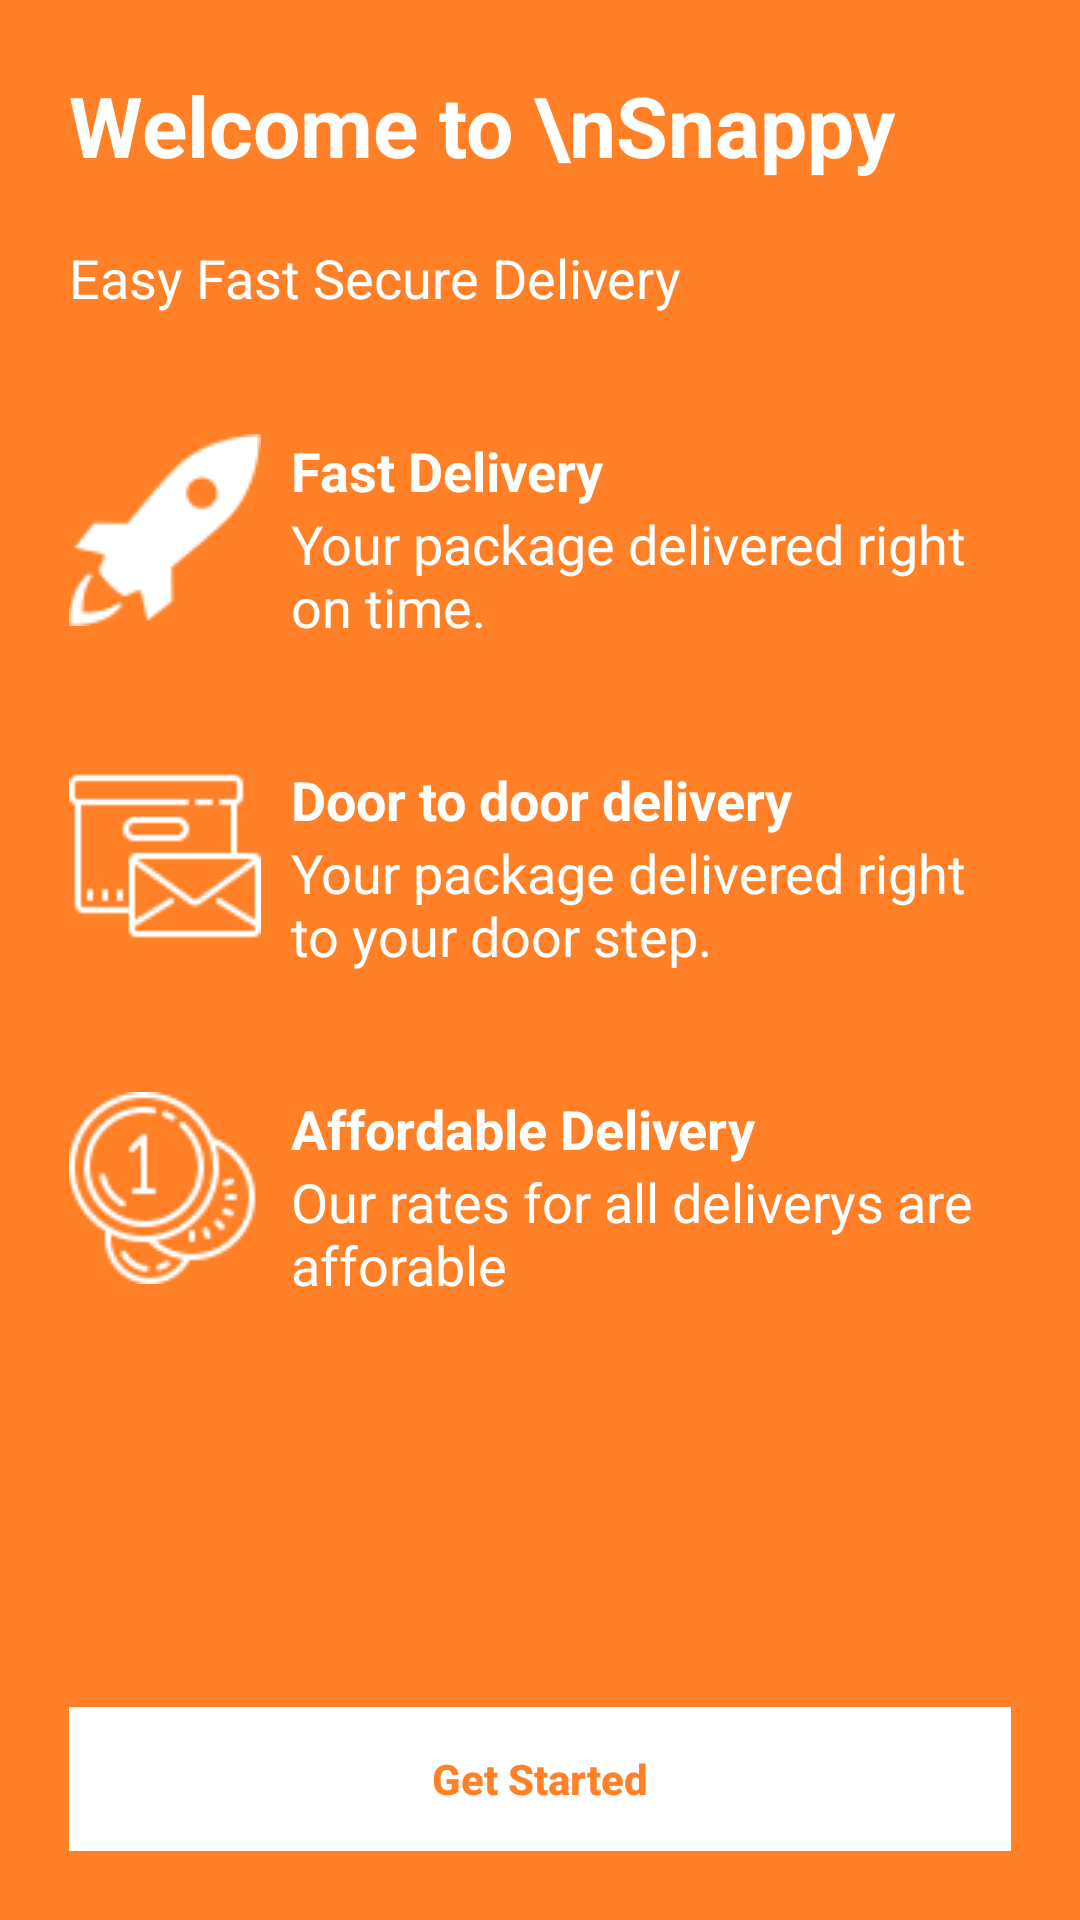

Where icons sit on this 1080 x 1920 app screen, as rect(x1, y1, x2, y2):
cheap delivery: rect(69, 1092, 256, 1284)
